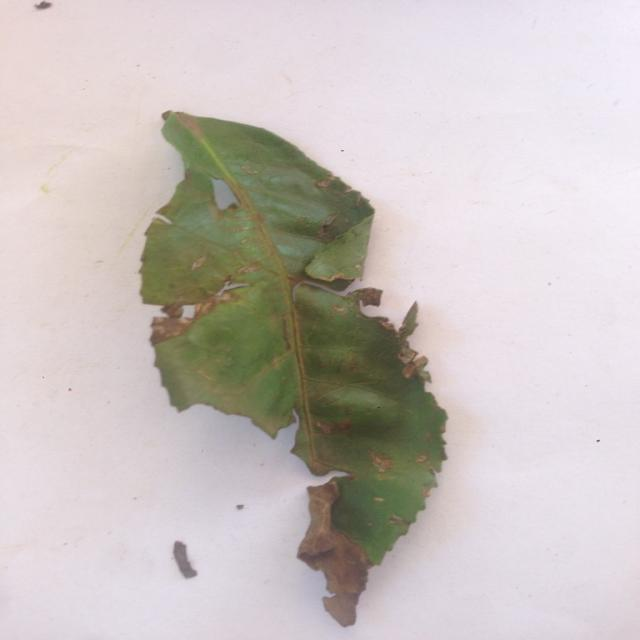Brown Blight: (120, 96, 467, 630)
